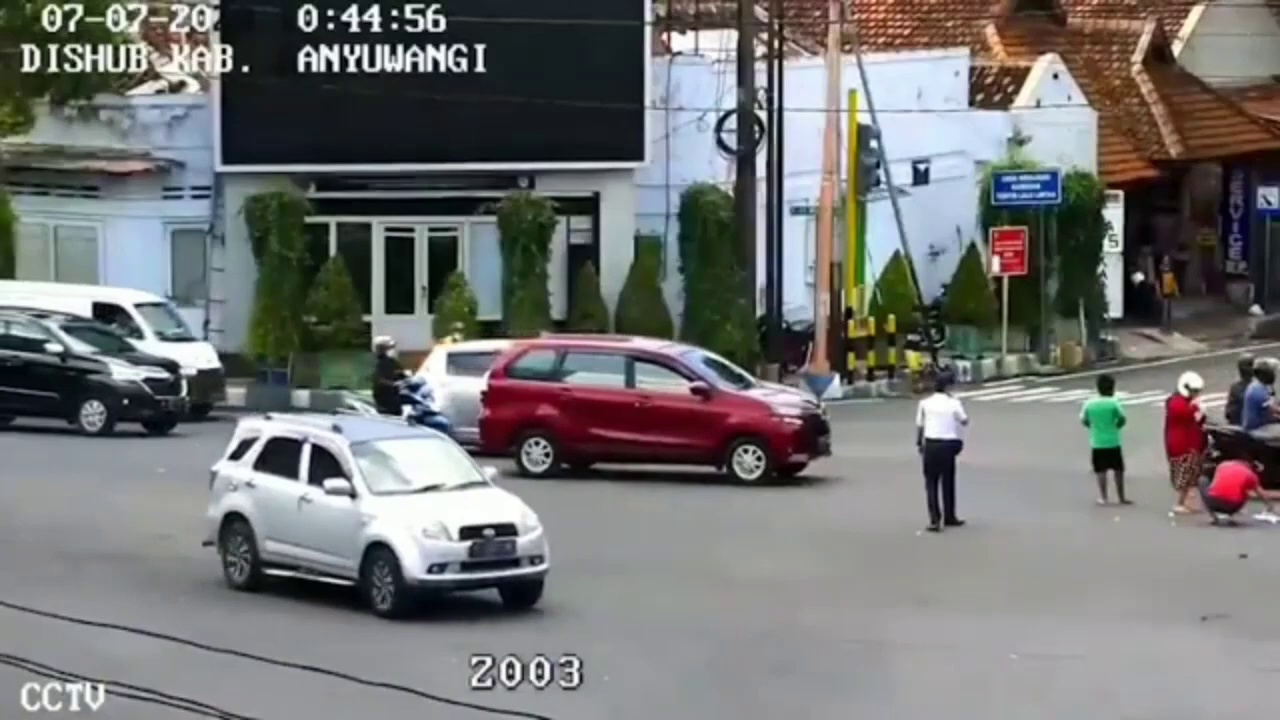car: (204, 410, 545, 615), (481, 336, 833, 492), (1, 272, 227, 438), (1, 309, 189, 441)
motorbike: (372, 341, 454, 450)
